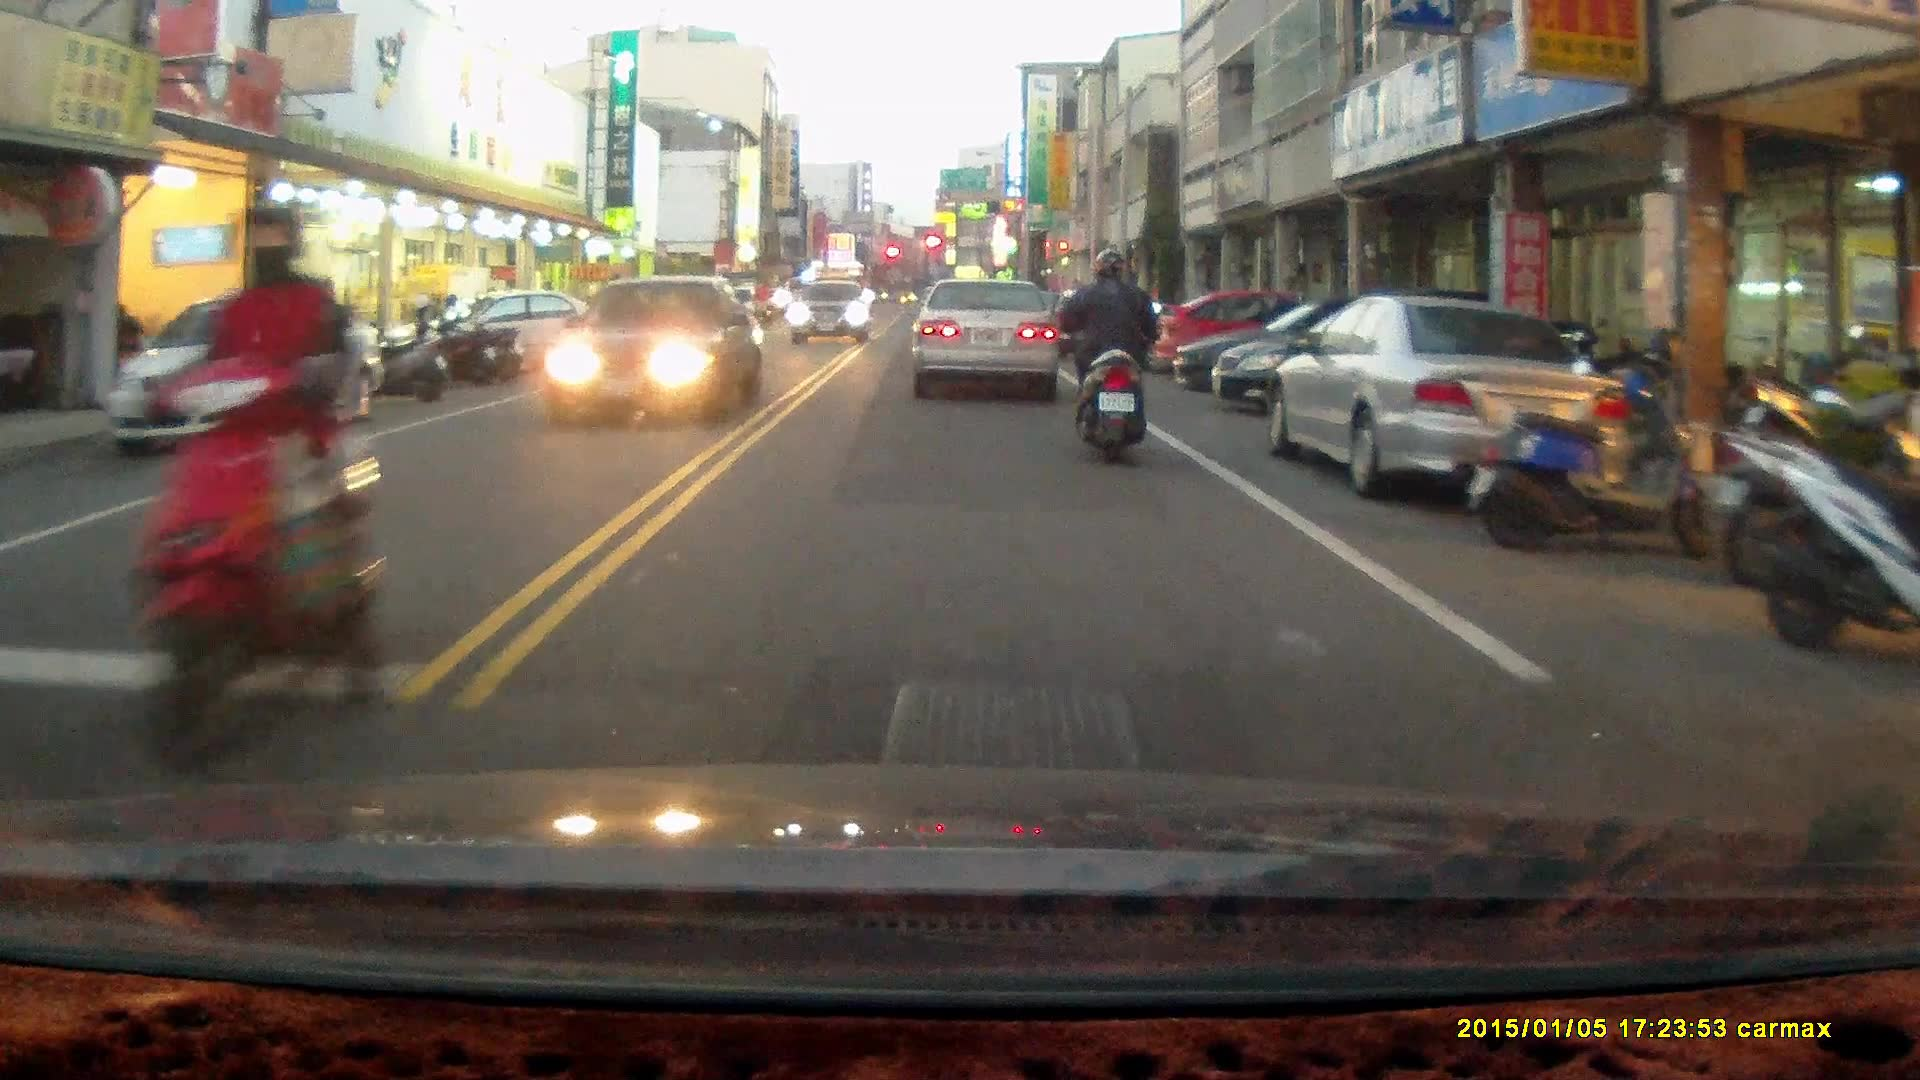rider: (125, 199, 392, 772), (1053, 245, 1165, 464)
vehicle: (1259, 294, 1630, 502), (1210, 297, 1507, 423), (547, 273, 762, 429), (1171, 308, 1474, 399), (1154, 295, 1384, 384), (907, 279, 1062, 401), (433, 292, 600, 379), (790, 285, 873, 351)
